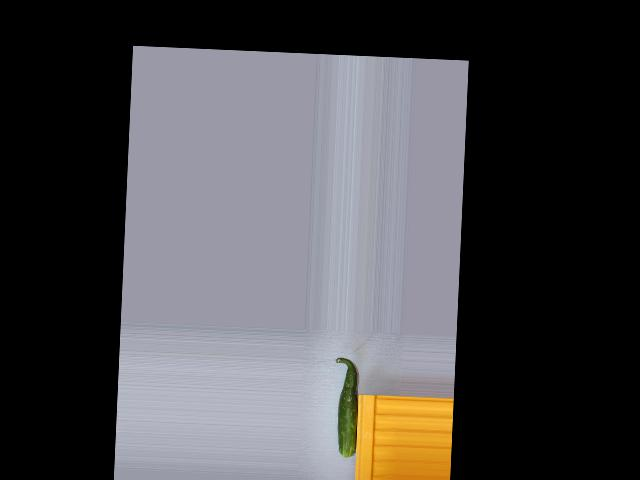cucumber: (331, 356, 360, 457)
